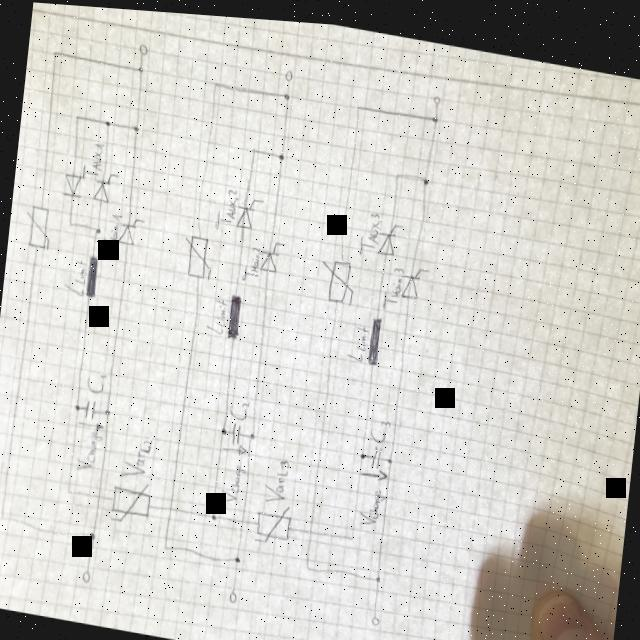capacitor: (368, 438, 381, 466), (82, 397, 95, 421), (228, 418, 240, 444)
crossover: (304, 523, 312, 533), (166, 501, 173, 511), (237, 513, 244, 522), (94, 492, 100, 499)
diode: (59, 169, 82, 199)
inductor: (364, 309, 382, 362), (224, 290, 241, 338), (82, 253, 98, 299)
junction: (280, 87, 290, 98), (100, 117, 110, 127), (274, 148, 284, 158), (428, 108, 438, 118), (70, 401, 80, 411), (86, 530, 95, 541), (246, 427, 255, 438), (102, 405, 110, 417), (129, 122, 138, 132), (91, 224, 100, 234), (217, 423, 226, 433), (134, 62, 142, 73), (208, 509, 216, 519), (232, 551, 240, 561), (372, 569, 380, 579), (302, 556, 309, 567), (391, 164, 398, 175), (64, 219, 72, 228), (72, 112, 79, 122), (247, 142, 254, 152), (357, 446, 364, 456), (384, 450, 391, 460), (420, 170, 427, 180), (352, 98, 360, 106), (210, 77, 217, 86), (346, 528, 353, 537), (50, 48, 56, 57), (64, 488, 70, 496), (0, 511, 4, 522), (160, 542, 167, 548)
terminal: (78, 568, 90, 583), (282, 63, 291, 79), (136, 41, 146, 55), (227, 587, 236, 601), (368, 609, 378, 621), (430, 88, 439, 99)
text: (116, 431, 150, 480), (260, 453, 290, 502), (72, 426, 101, 473), (354, 204, 381, 254), (212, 181, 238, 231), (355, 480, 384, 524), (379, 258, 404, 308), (217, 458, 244, 503), (80, 137, 104, 183), (202, 292, 227, 334), (98, 209, 120, 256), (62, 254, 86, 297), (343, 318, 368, 359), (239, 240, 261, 281), (366, 410, 390, 440), (84, 369, 106, 396), (226, 393, 248, 418)
thyristor: (232, 190, 260, 228), (400, 258, 425, 296), (90, 168, 115, 204), (258, 234, 282, 271), (376, 215, 400, 252), (115, 213, 140, 246)
